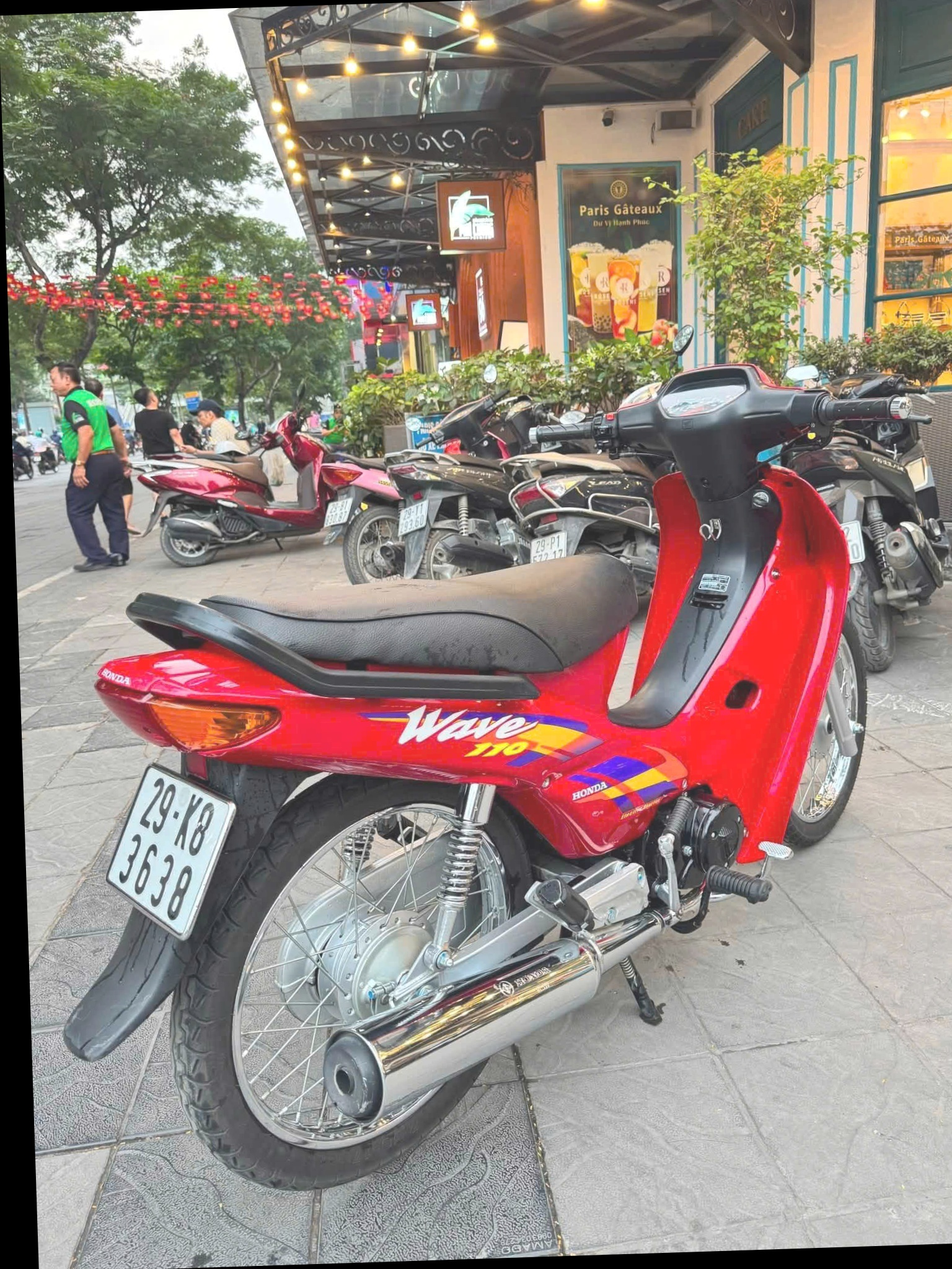Bien-so: (77, 754, 216, 943), (510, 540, 548, 571), (380, 503, 411, 537)
